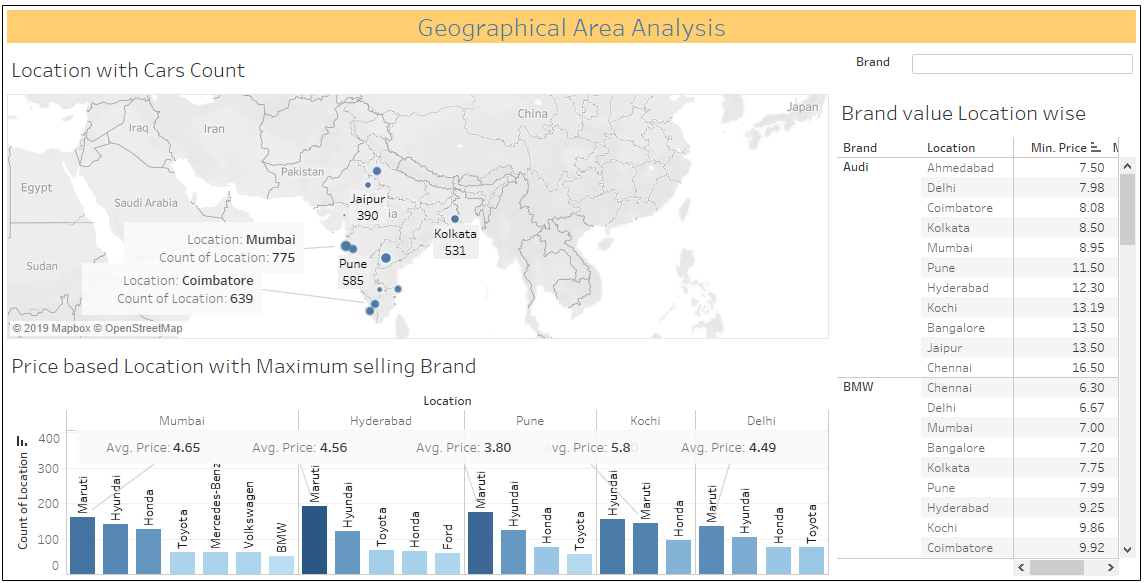

The dashboard page shown, as its layout file describes it:
{"tool":"tableau","page":{"name":"Geographical Area Analysis","canvas":[1000,1000],"units":"permille","ordinal":3},"visuals":[{"type":"title","box":[5.4,10.5,989.1,48.5]},{"type":"worksheet","title":"Location with Cars Count","mark":"Automatic","rows":["Latitude (generated)"],"cols":["Longitude (generated)"],"box":[5.4,58.9,721.8,500.2]},{"type":"filter","title":"Brand value Location wise","param":"[federated.0vfh54c1truea212ukk8j18ut1hf].[none:Brand:nk]","box":[727.2,58.9,267.4,75.8]},{"type":"worksheet","title":"Brand value Location wise","mark":"Automatic","rows":["Brand","Location"],"box":[727.2,134.7,267.4,854.9]},{"type":"worksheet","title":"Price based Location with Maximum selling Brand","mark":"Automatic","rows":["Location"],"cols":["Location","Brand"],"box":[5.4,559.1,721.8,430.5]}]}

Visuals, with their boxes on the dashboard's canvas, which has no fixed pixel size, in thousandths of its width and height (x1, y1, x2, y2). These are canvas units, not pixel positions in the 1144x583 screenshot, which may show the page scaled, cropped or inside an application window:
title: (5,10,994,59)
"Location with Cars Count" worksheet: (5,59,727,559)
"Brand value Location wise" filter: (727,59,995,135)
"Brand value Location wise" worksheet: (727,135,995,990)
"Price based Location with Maximum selling Brand" worksheet: (5,559,727,990)
